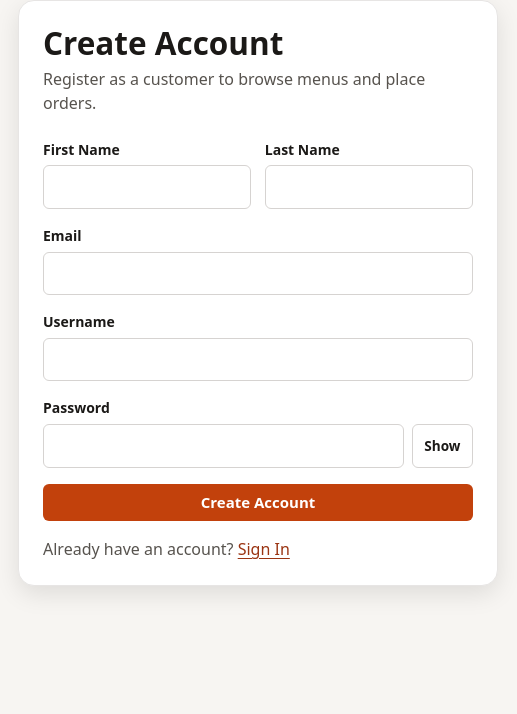
Scenario: RegisterPage accessibility & validation › uses new-password autocomplete and validates required fields + email
What coordinates should you click on to do the following:
click the button "Create Account"
I would click on:
 (258, 502)
Its box is [43,484,473,521].
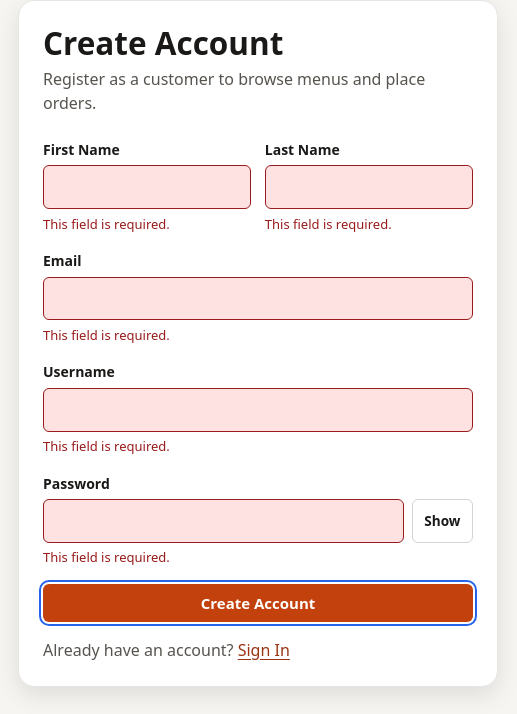
Expected: the text "This field is required." is shown 5 times, [43,215,170,233]; [265,215,392,233]; [43,326,170,344]; [43,437,170,455]; [43,548,170,566]
